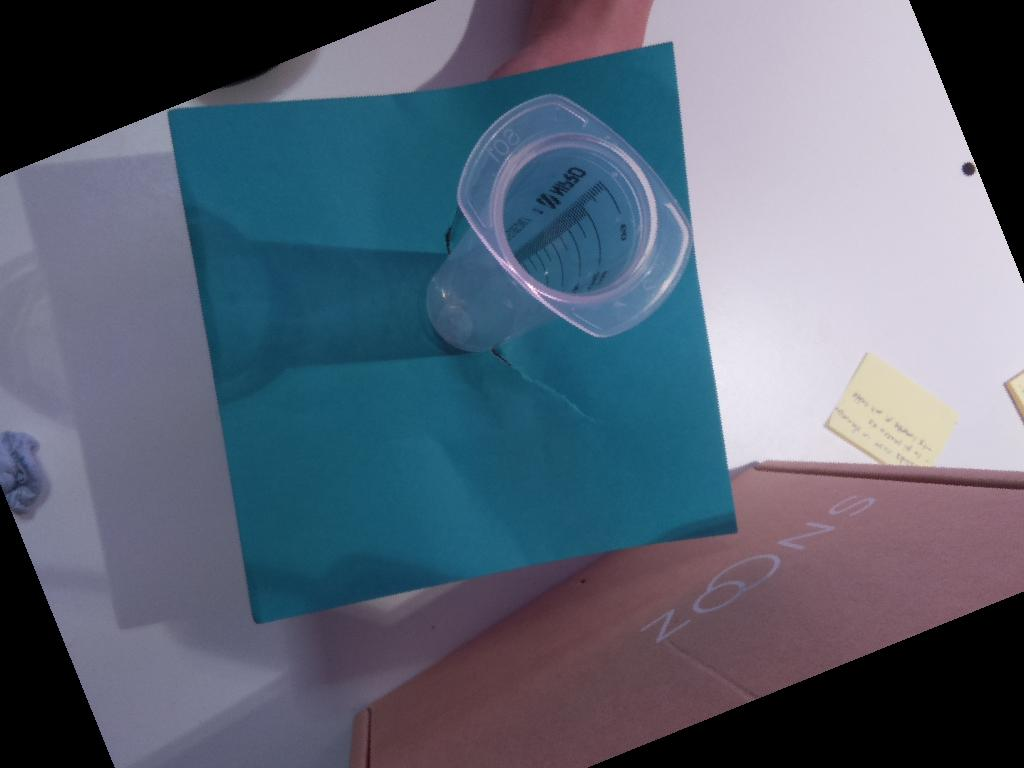clean: (456, 92, 694, 342)
